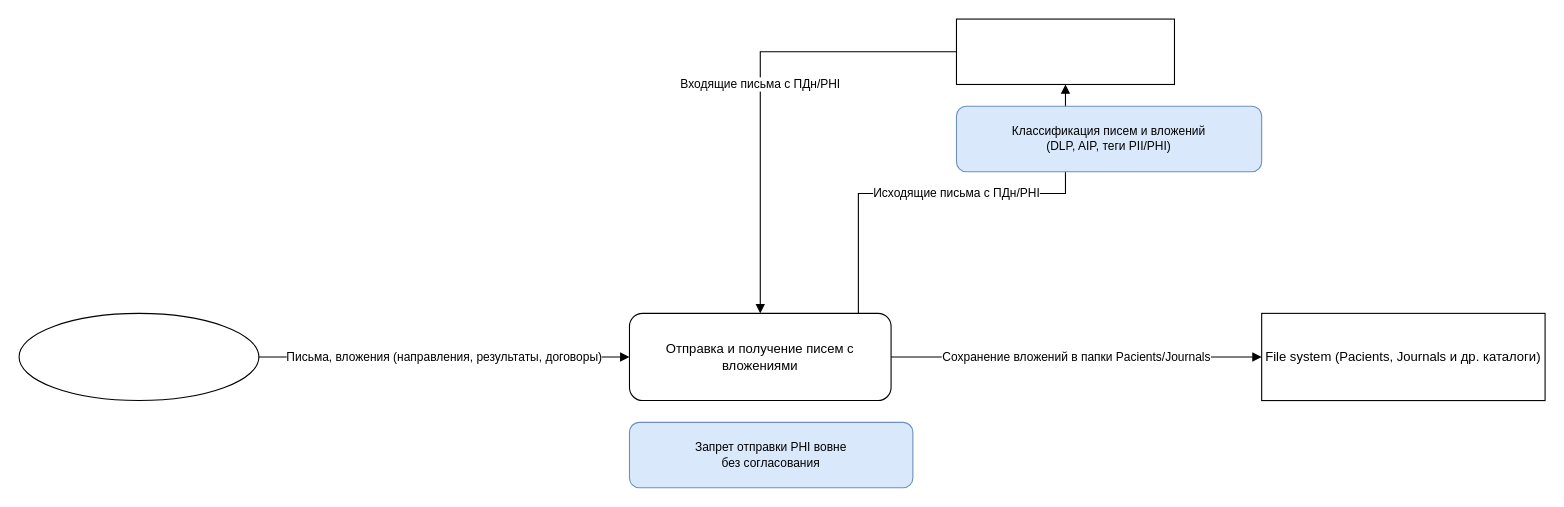
This 1564x507 diagram has some shape labels left out. The box of each missing label's shape, as (x1, y1, x2, y2) in pixels:
Exchange Mail Server: (955, 18, 1174, 84)
Сотрудники клиники (врачи, администраторы, бухгалтерия): (18, 312, 259, 401)
